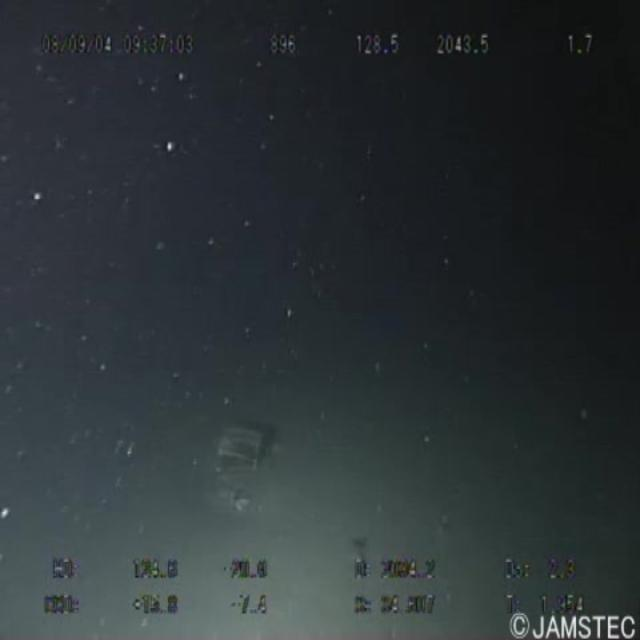Metal: (194, 403, 288, 516)
